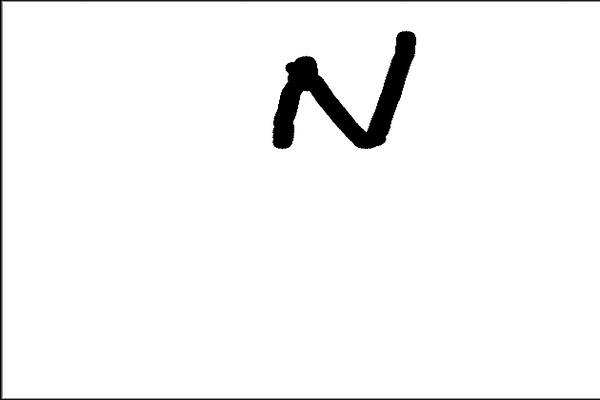N: (265, 27, 424, 159)
